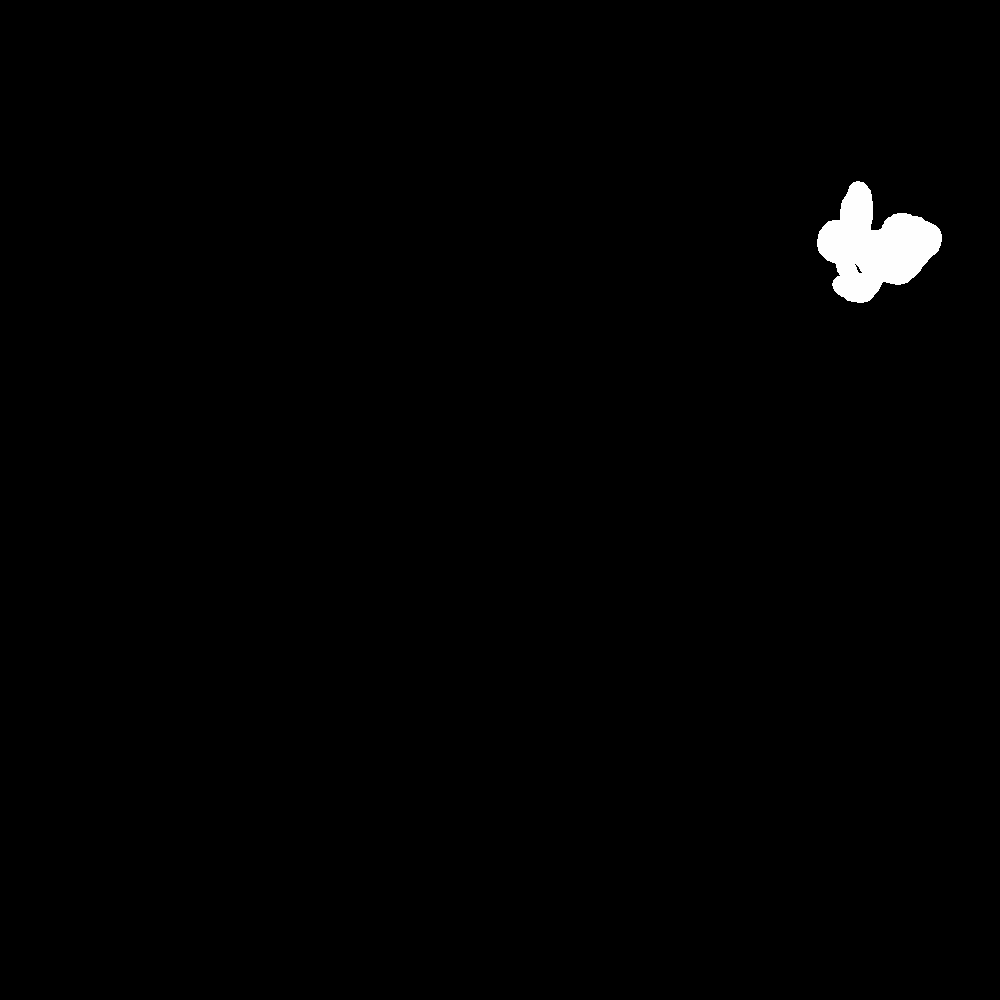illegal: (821, 192, 935, 305)
